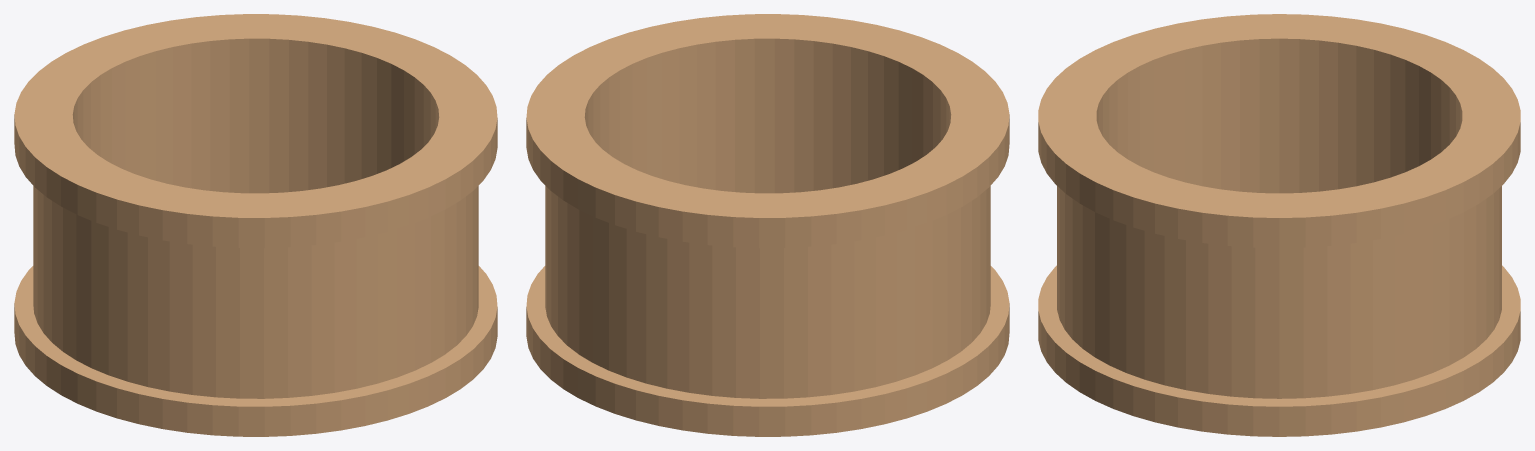
Rendered from alternator-stator-winding.glb.
3 renders of one model, left to right at view 1: azimuth 30°, elevation 25°; view 2: azimuth 150°, elevation 25°; view 3: azimuth 270°, elevation 25°, orthographic.
Visible parts, largest first — view 1: world; view 2: world; view 3: world.
Boxes of the visible parts, left/top/right/bottom form: world: left=14, top=14, right=497, bottom=436; world: left=526, top=14, right=1009, bottom=436; world: left=1038, top=14, right=1520, bottom=436.
Bounding box in the file's own units: 0.116 × 0.058 × 0.1158.
